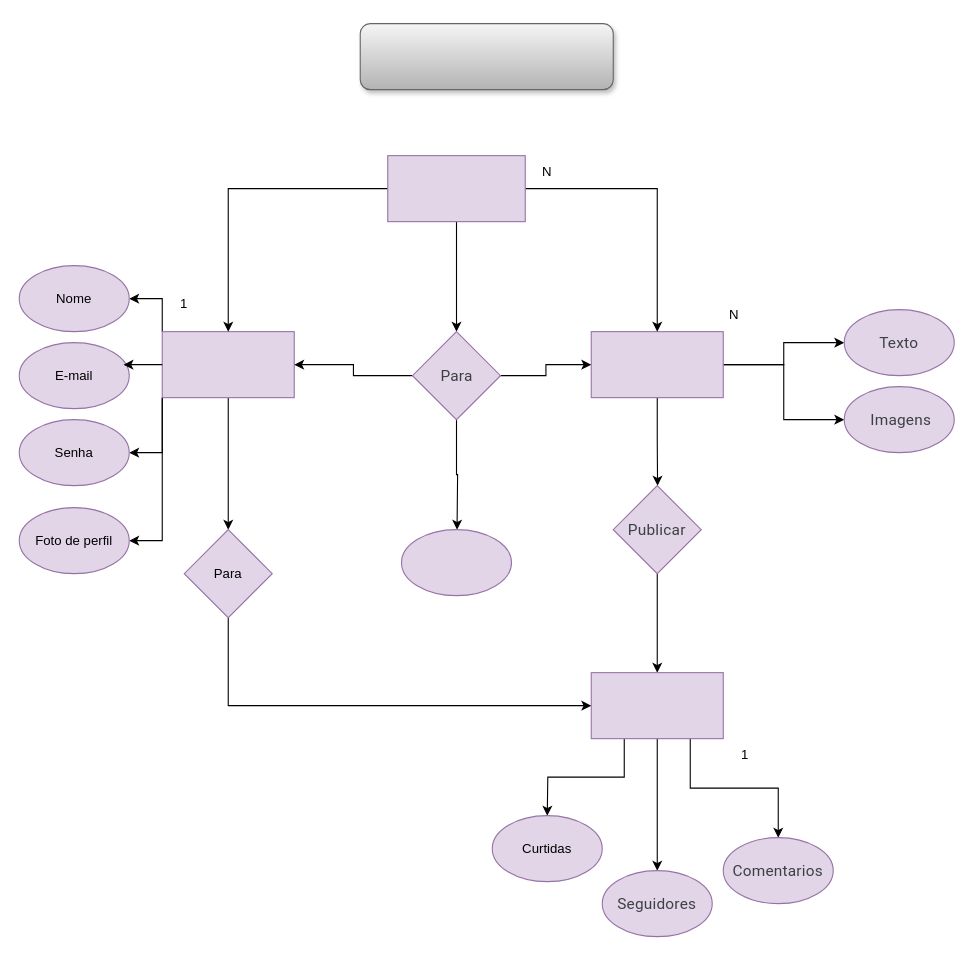
Some shapes in this 974 by 956 pixel diagram are drawn without their labels. Each missing label, with the centre of its shape:
DEV-CONNECT - DER: [487,57]
Postagem: [656,364]
Profissionais de Tecnologia: [456,562]
Rede Social: [456,188]
Seguindo: [656,705]
Usuario: [227,364]
